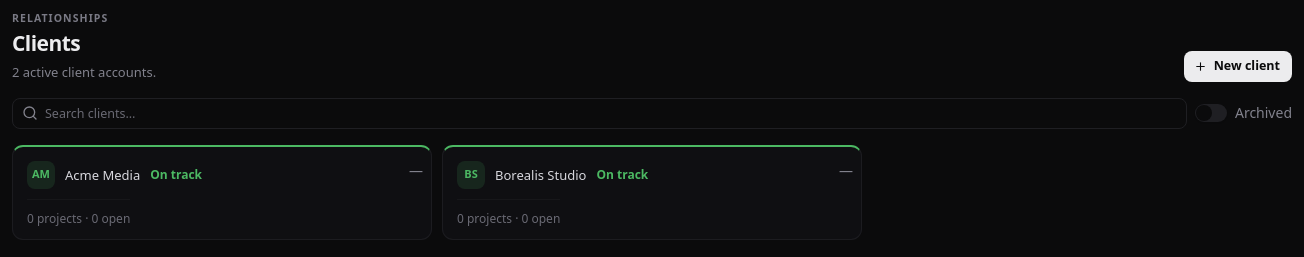
Scenario: ClientsPage search › narrows to the matches without claiming the rest were never there
The width and height of the screenshot is (1304, 257).
In the field labelled "Search clients…": (599, 113) [12,98,1187,129], type "acme"
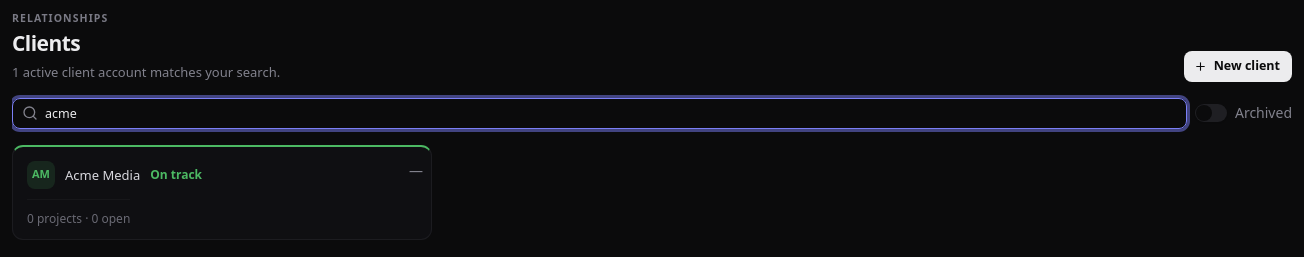
Expected: the text "Acme Media" is shown, [65,165,140,185]
Now the button "Borealis Studio" is gone
Now the text "1 active client account matches your search." is shown, box [12,62,280,82]
